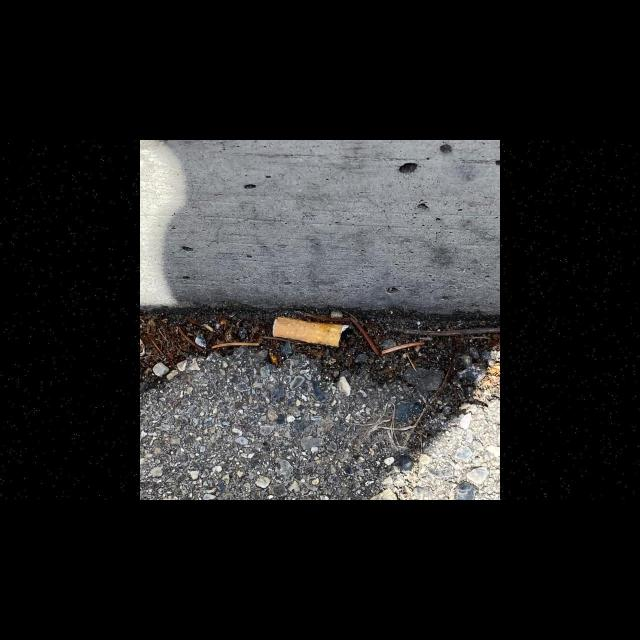cigarette: (272, 315, 351, 347)
